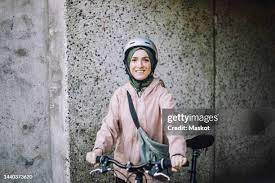helmets: (122, 37, 159, 72)
